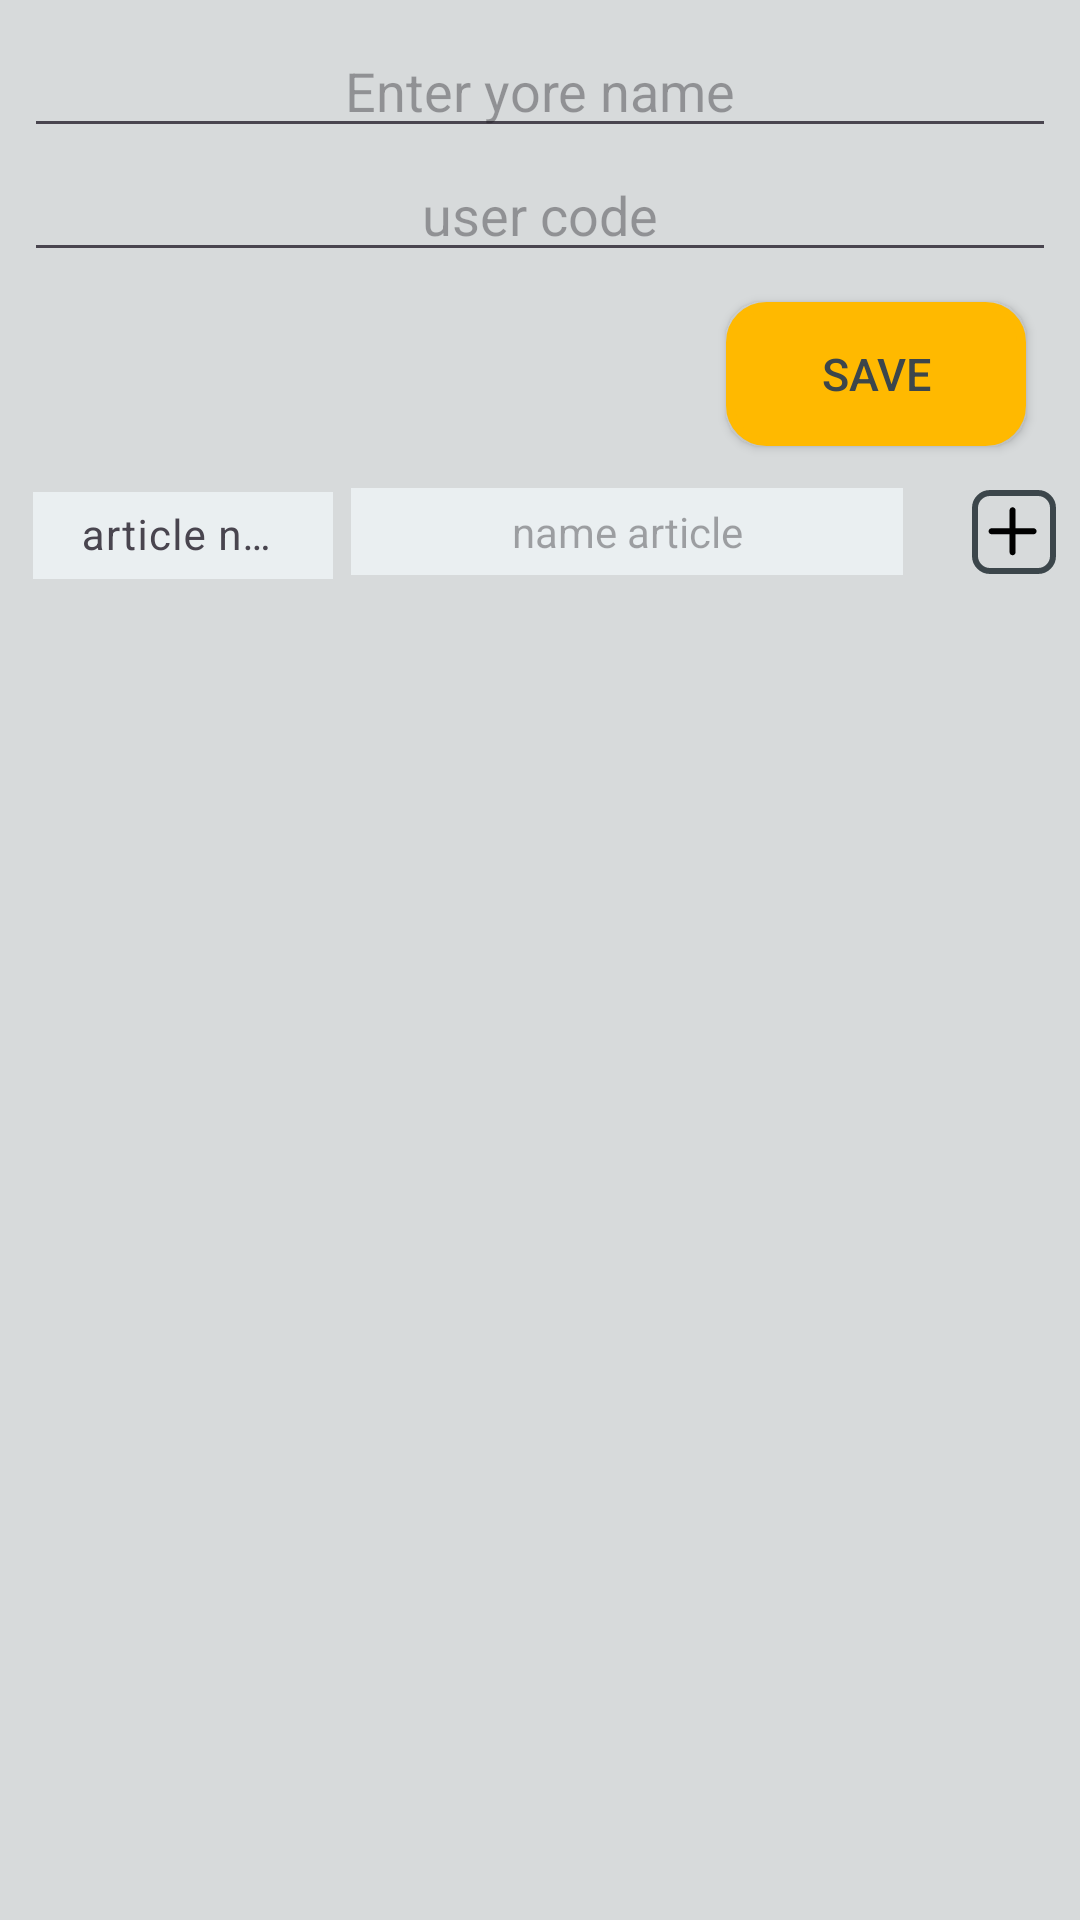

Locate icon controls on the screen. Image size 1080px×1920px, boxes as bbox=(x1, y1, x2, y2).
plus square: bbox=(972, 490, 1056, 574)
